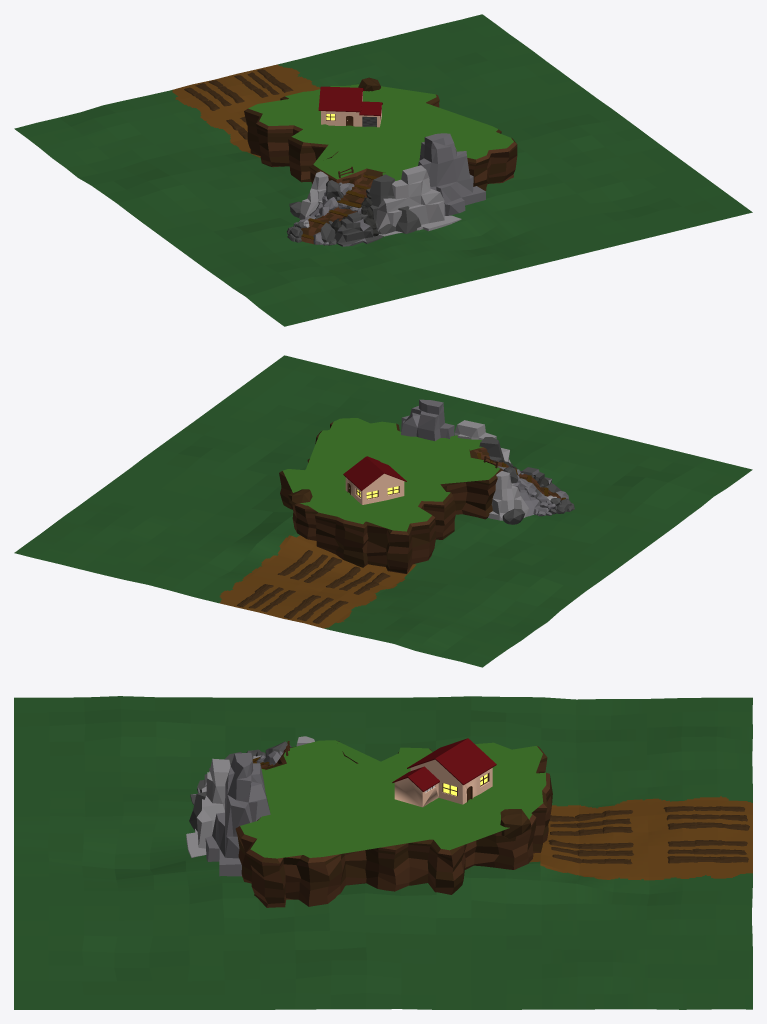
Rendered from Cliff House.fbx.
3 views of the same model, one above another, from view 1: azimuth 30°, elevation 25°; view 2: azimuth 150°, elevation 25°; view 3: azimuth 270°, elevation 25° (orthographic). The views are drawn at different scales.
Visible parts, largest first — view 1: GROUND, CLIFF, Plane, Plane.008, Plane.007, Plane.026, Cube.037, Plane.009, Plane.005; view 2: GROUND, CLIFF, Plane, Plane.005, Plane.010, Cube.037, Plane.026, Plane.008; view 3: GROUND, CLIFF, Plane, Plane.008, Plane.026, Plane.010, Plane.014, Cube.057, Plane.015.
Part boxes in pixels (x1,y1,x2,y2): GROUND: (14, 14, 752, 326); CLIFF: (244, 84, 517, 244); Plane: (418, 133, 485, 215); Plane.008: (376, 165, 461, 236); Plane.007: (366, 174, 421, 234); Plane.026: (318, 86, 364, 112); Cube.037: (287, 180, 354, 242); Plane.009: (335, 212, 382, 246); Plane.005: (299, 171, 328, 219); GROUND: (14, 355, 752, 667); CLIFF: (279, 418, 562, 573); Plane: (401, 399, 454, 440); Plane.005: (488, 471, 529, 520); Plane.010: (345, 473, 404, 504); Cube.037: (497, 466, 574, 516); Plane.026: (343, 456, 406, 490); Plane.008: (454, 420, 510, 463); GROUND: (14, 696, 752, 1009); CLIFF: (235, 740, 552, 907); Plane: (205, 752, 270, 876); Plane.008: (186, 758, 230, 857); Plane.026: (407, 738, 496, 785); Plane.010: (410, 759, 492, 804); Plane.014: (394, 778, 438, 807); Cube.057: (500, 809, 531, 838); Plane.015: (392, 766, 439, 791).
Size of the model in its own units: 9418 by 1635 by 9407.
